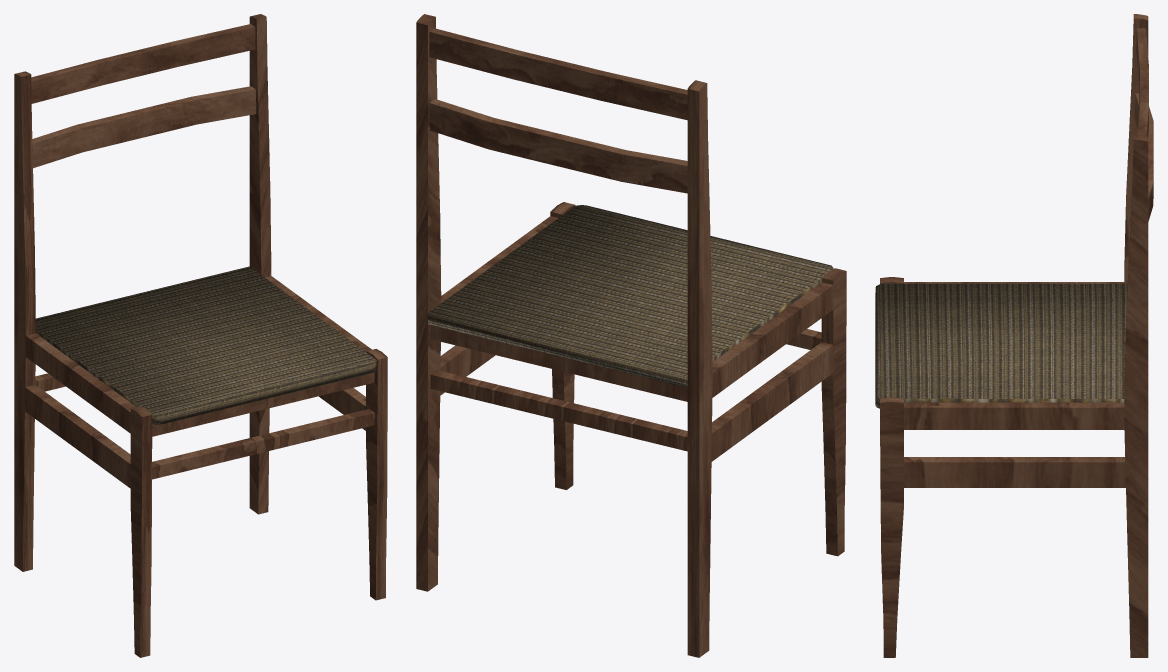
Rendered from chair.fbx.
3 renders of one model, left to right at view 1: azimuth 30°, elevation 25°; view 2: azimuth 150°, elevation 25°; view 3: azimuth 270°, elevation 25°, orthographic. The views are drawn at different scales.
Parts seen in each view (by area): view 1: Cube.012, Cube.011; view 2: Cube.012, Cube.011; view 3: Cube.012, Cube.011.
Boxes of the visible parts, <box> form: Cube.012: <box>14,14,387,657</box>; Cube.011: <box>35,266,376,424</box>; Cube.012: <box>416,14,846,657</box>; Cube.011: <box>428,205,833,387</box>; Cube.012: <box>880,14,1153,657</box>; Cube.011: <box>875,283,1127,408</box>.
Bounding box in the file's own units: 58.77 × 113 × 55.03.
